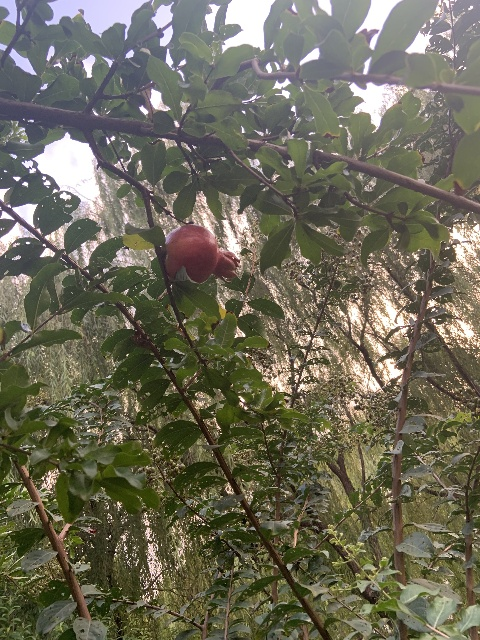ripe: (163, 224, 239, 283)
